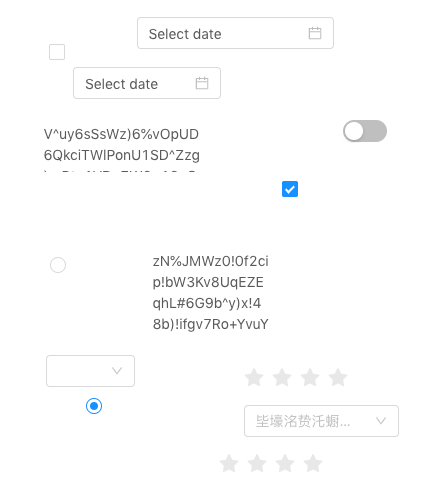Checkbox: (49, 41, 65, 62), (282, 178, 298, 199)
DatePicker: (137, 17, 334, 49), (73, 67, 221, 99)
Radio: (50, 254, 66, 274), (86, 395, 102, 415)
Rate: (244, 361, 364, 393), (219, 447, 339, 479)
Select: (244, 405, 399, 437), (46, 355, 135, 387)
Switch: (343, 119, 387, 143)
Text: (153, 250, 270, 332), (44, 123, 201, 172)
